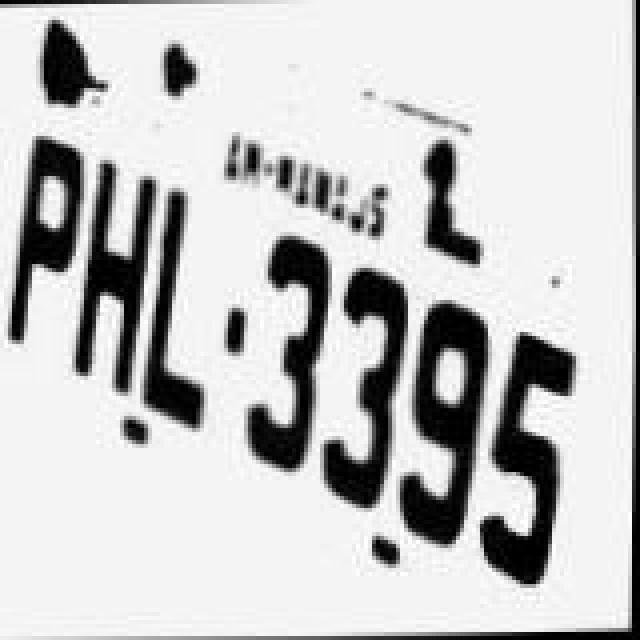3: (242, 236, 334, 480), (324, 270, 408, 526)
5: (480, 326, 584, 602)
9: (404, 296, 496, 552)
H: (76, 158, 156, 410)
L: (148, 184, 228, 440)
P: (2, 124, 86, 356)
